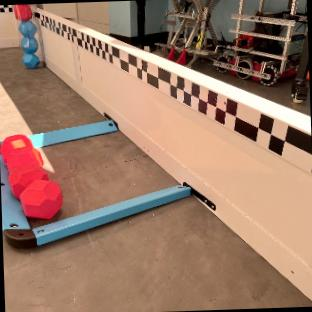V5_RED: (0, 135, 62, 218)
